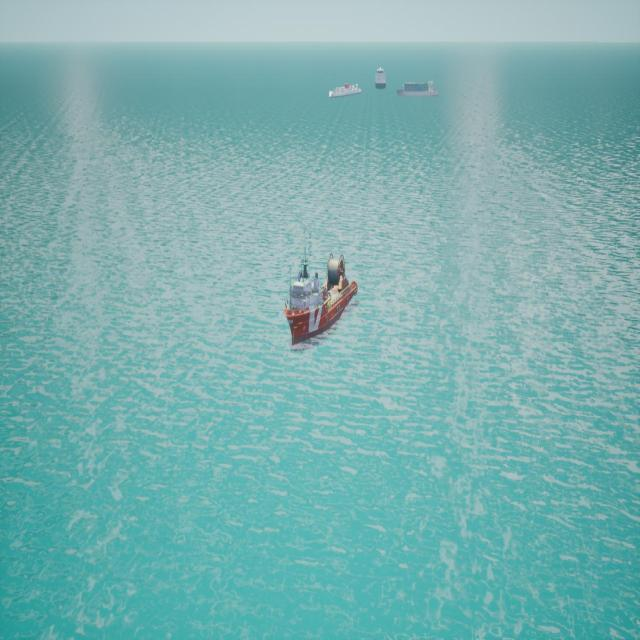tug boat: (283, 249, 358, 349)
